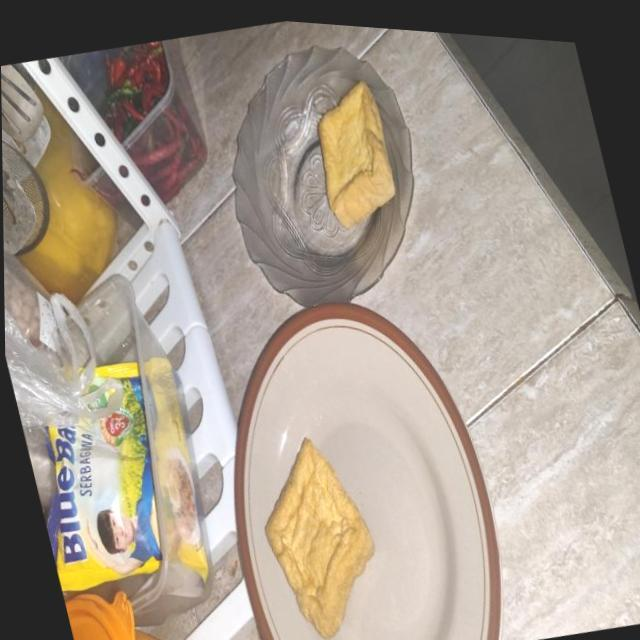tahu_goreng: (265, 437, 374, 638), (318, 80, 394, 228)
